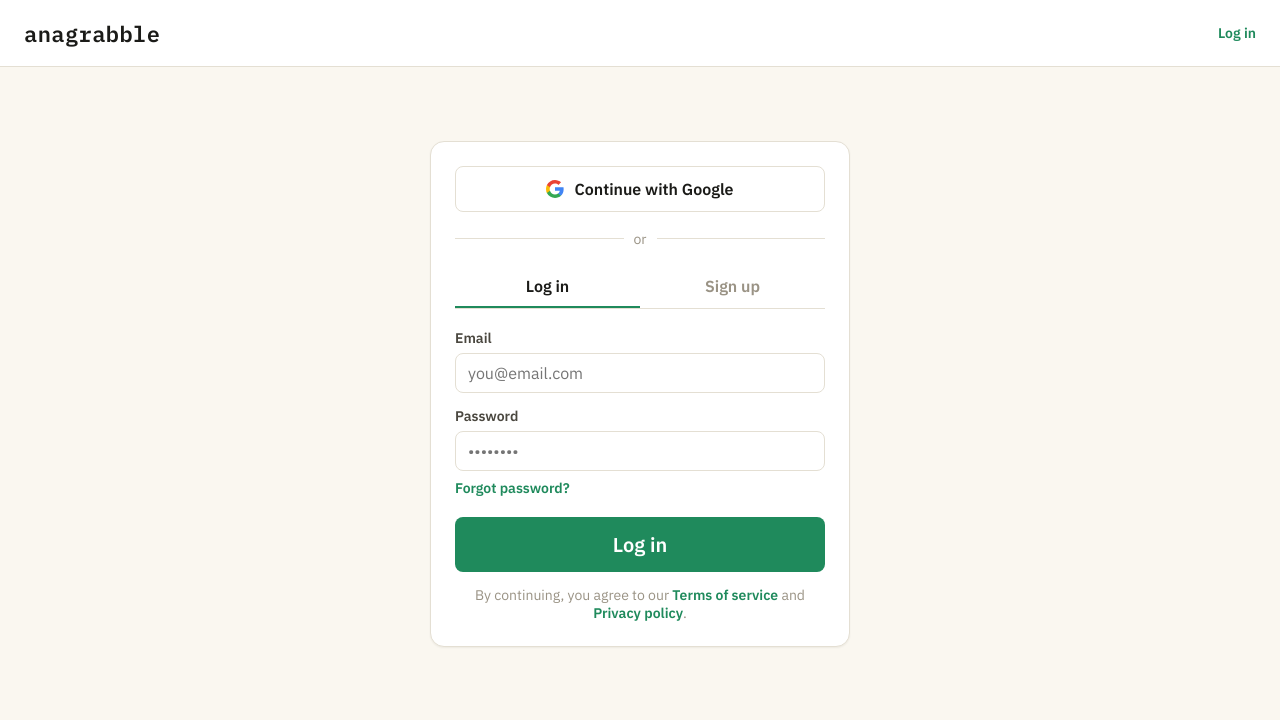
Scenario: LoginPage › only flags the empty field as Required when the other is filled in
Type "alex@example.com" into the field labelled "Email".
click(640, 372); type("alex@example.com")  # box x1=455 y1=352 x2=825 y2=392
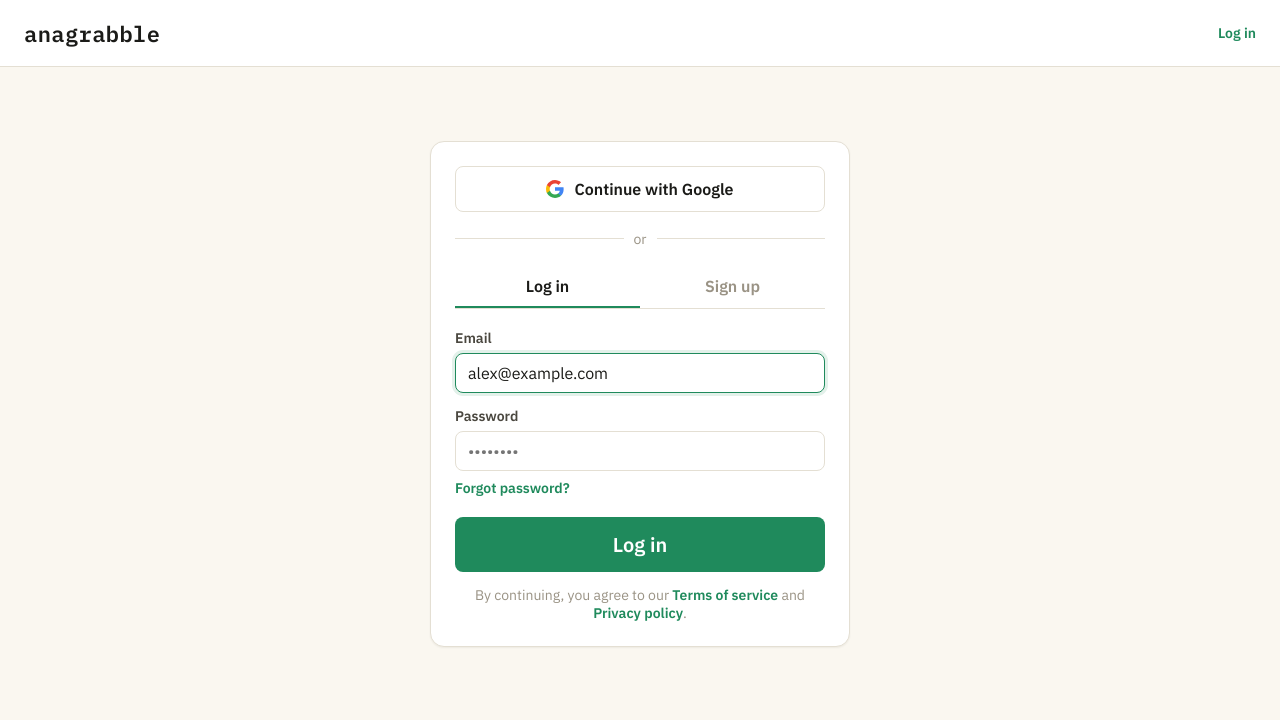
Click the button "Log in".
click(640, 544)  # box x1=455 y1=516 x2=825 y2=572
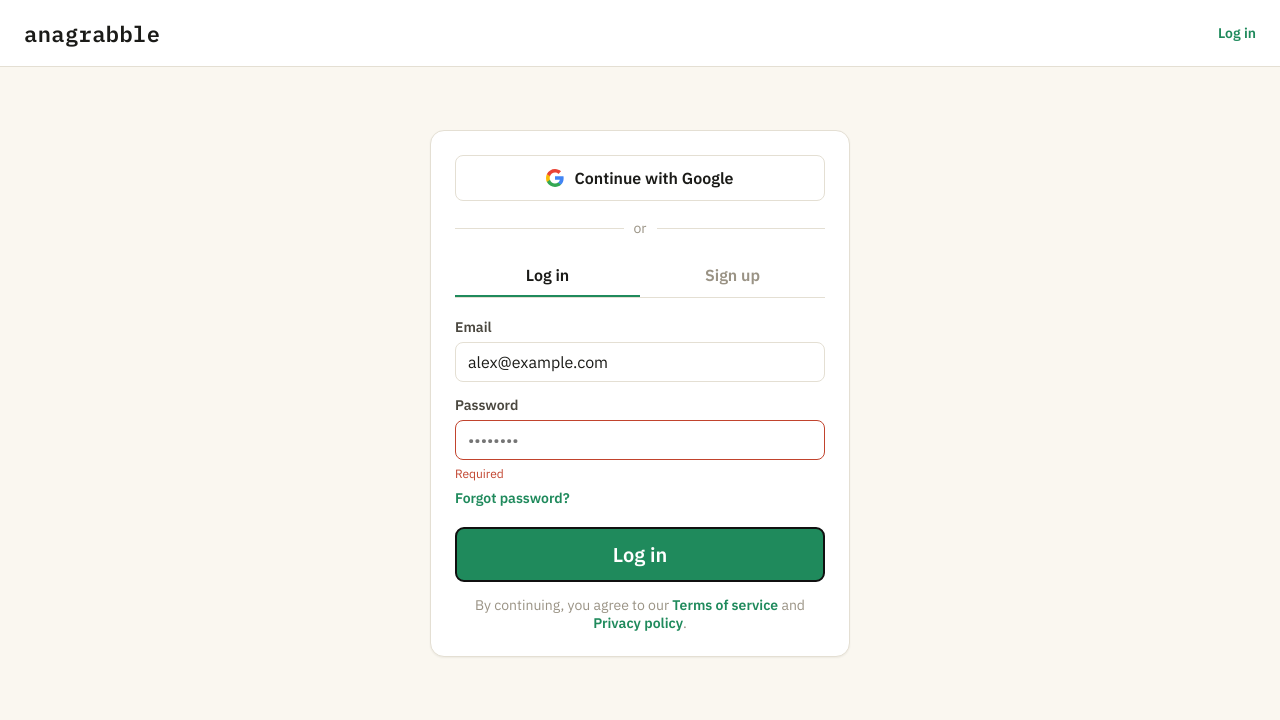
Expected: the label labelled "Password" shows "Required", x1=455 y1=466 x2=504 y2=481
